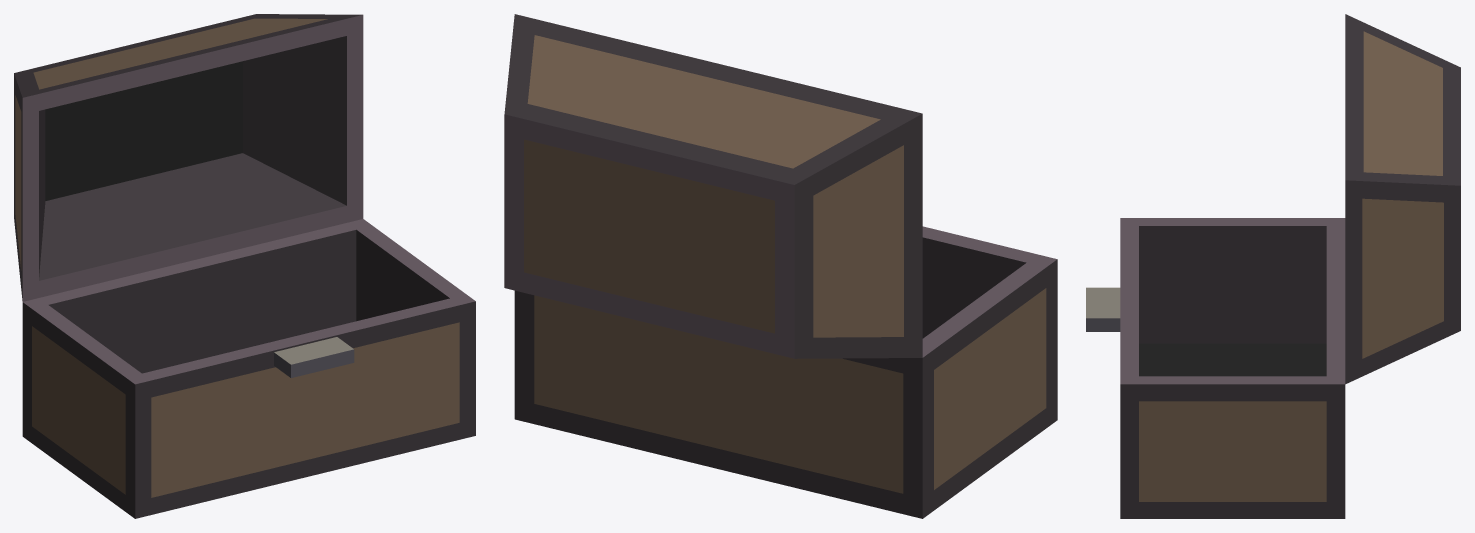
File: TB_D_Prop_ChestA_Open_A.FBX
3 renders of one model, left to right at view 1: azimuth 30°, elevation 25°; view 2: azimuth 150°, elevation 25°; view 3: azimuth 270°, elevation 25°, orthographic. The views are drawn at different scales.
Parts seen in each view (by area): view 1: TB_D_Prop_ChestA_Open_A; view 2: TB_D_Prop_ChestA_Open_A; view 3: TB_D_Prop_ChestA_Open_A.
Boxes of the visible parts, x1=… form: TB_D_Prop_ChestA_Open_A: x1=14, y1=14, x2=475, y2=518; TB_D_Prop_ChestA_Open_A: x1=504, y1=14, x2=1057, y2=518; TB_D_Prop_ChestA_Open_A: x1=1086, y1=14, x2=1460, y2=518.
Bounding box in the file's own units: 1.05 × 0.9932 × 0.9965.
